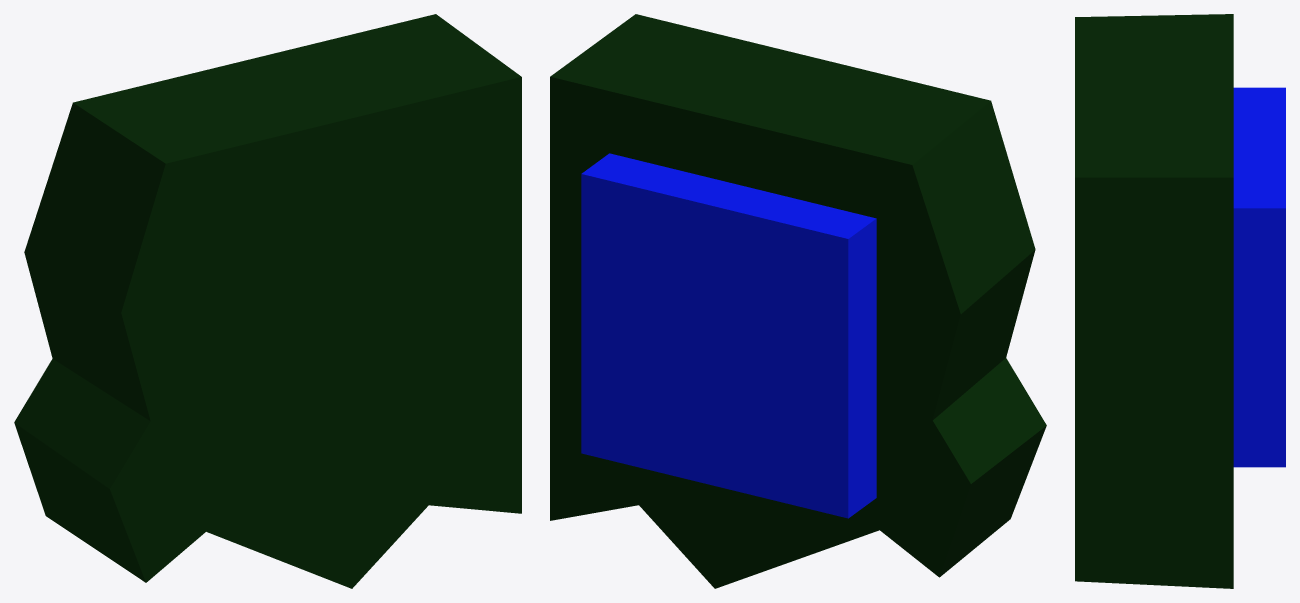
The model's file is Collectible_Piece_C.FBX.
3 renders of one model, left to right at view 1: azimuth 30°, elevation 25°; view 2: azimuth 150°, elevation 25°; view 3: azimuth 270°, elevation 25°, orthographic. The views are drawn at different scales.
Visible parts, largest first — view 1: Piece_C; view 2: Piece_C; view 3: Piece_C.
Part boxes in pixels (x1=…): Piece_C: x1=14, y1=14, x2=521, y2=588; Piece_C: x1=550, y1=14, x2=1046, y2=588; Piece_C: x1=1075, y1=14, x2=1285, y2=588.
Bounding box in the file's own units: 28.37 × 30.4 × 13.29.
